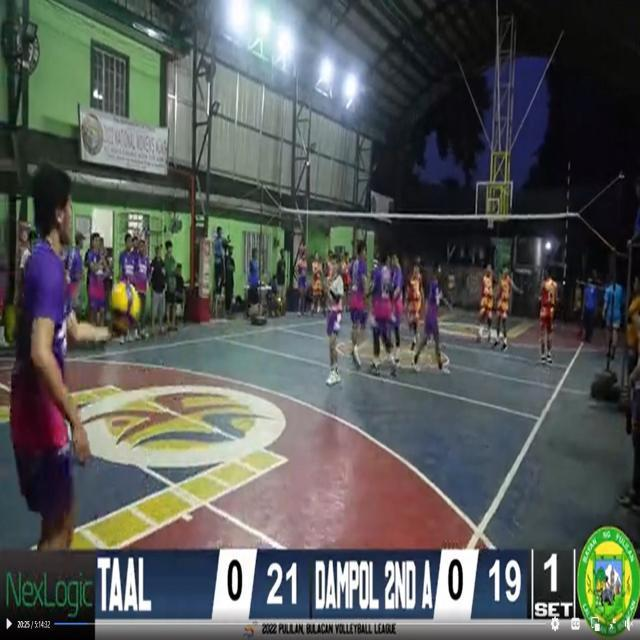volleyball: (109, 280, 140, 332)
